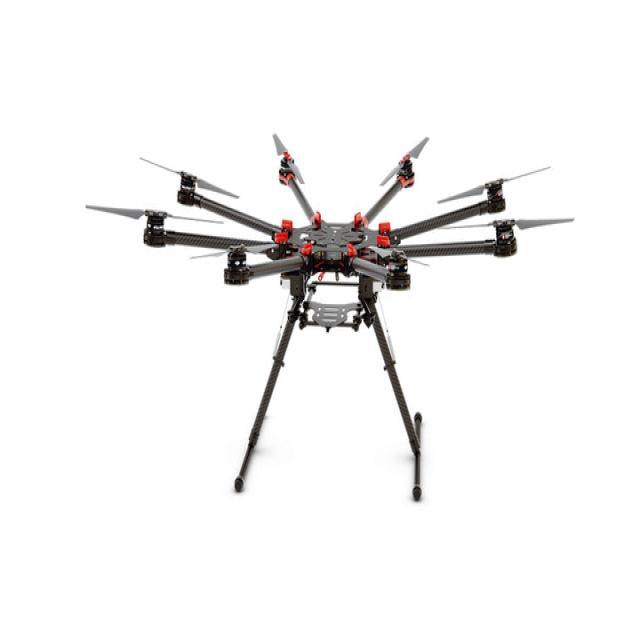drone: (96, 94, 587, 553)
